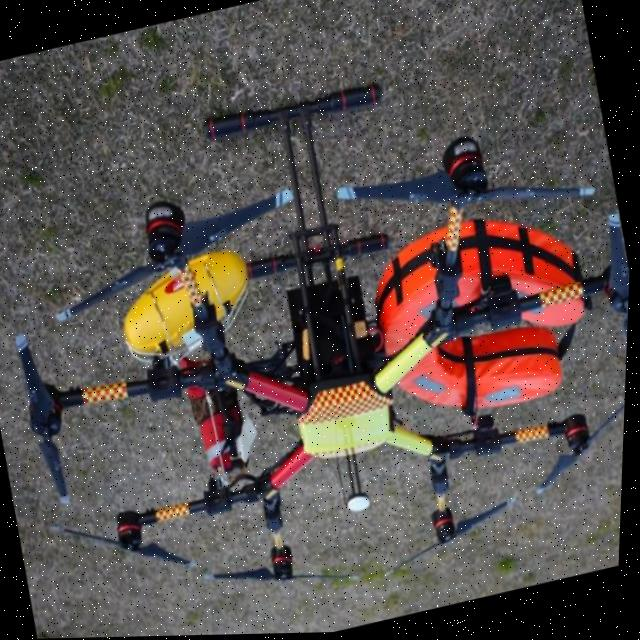drones: (0, 11, 639, 640)
